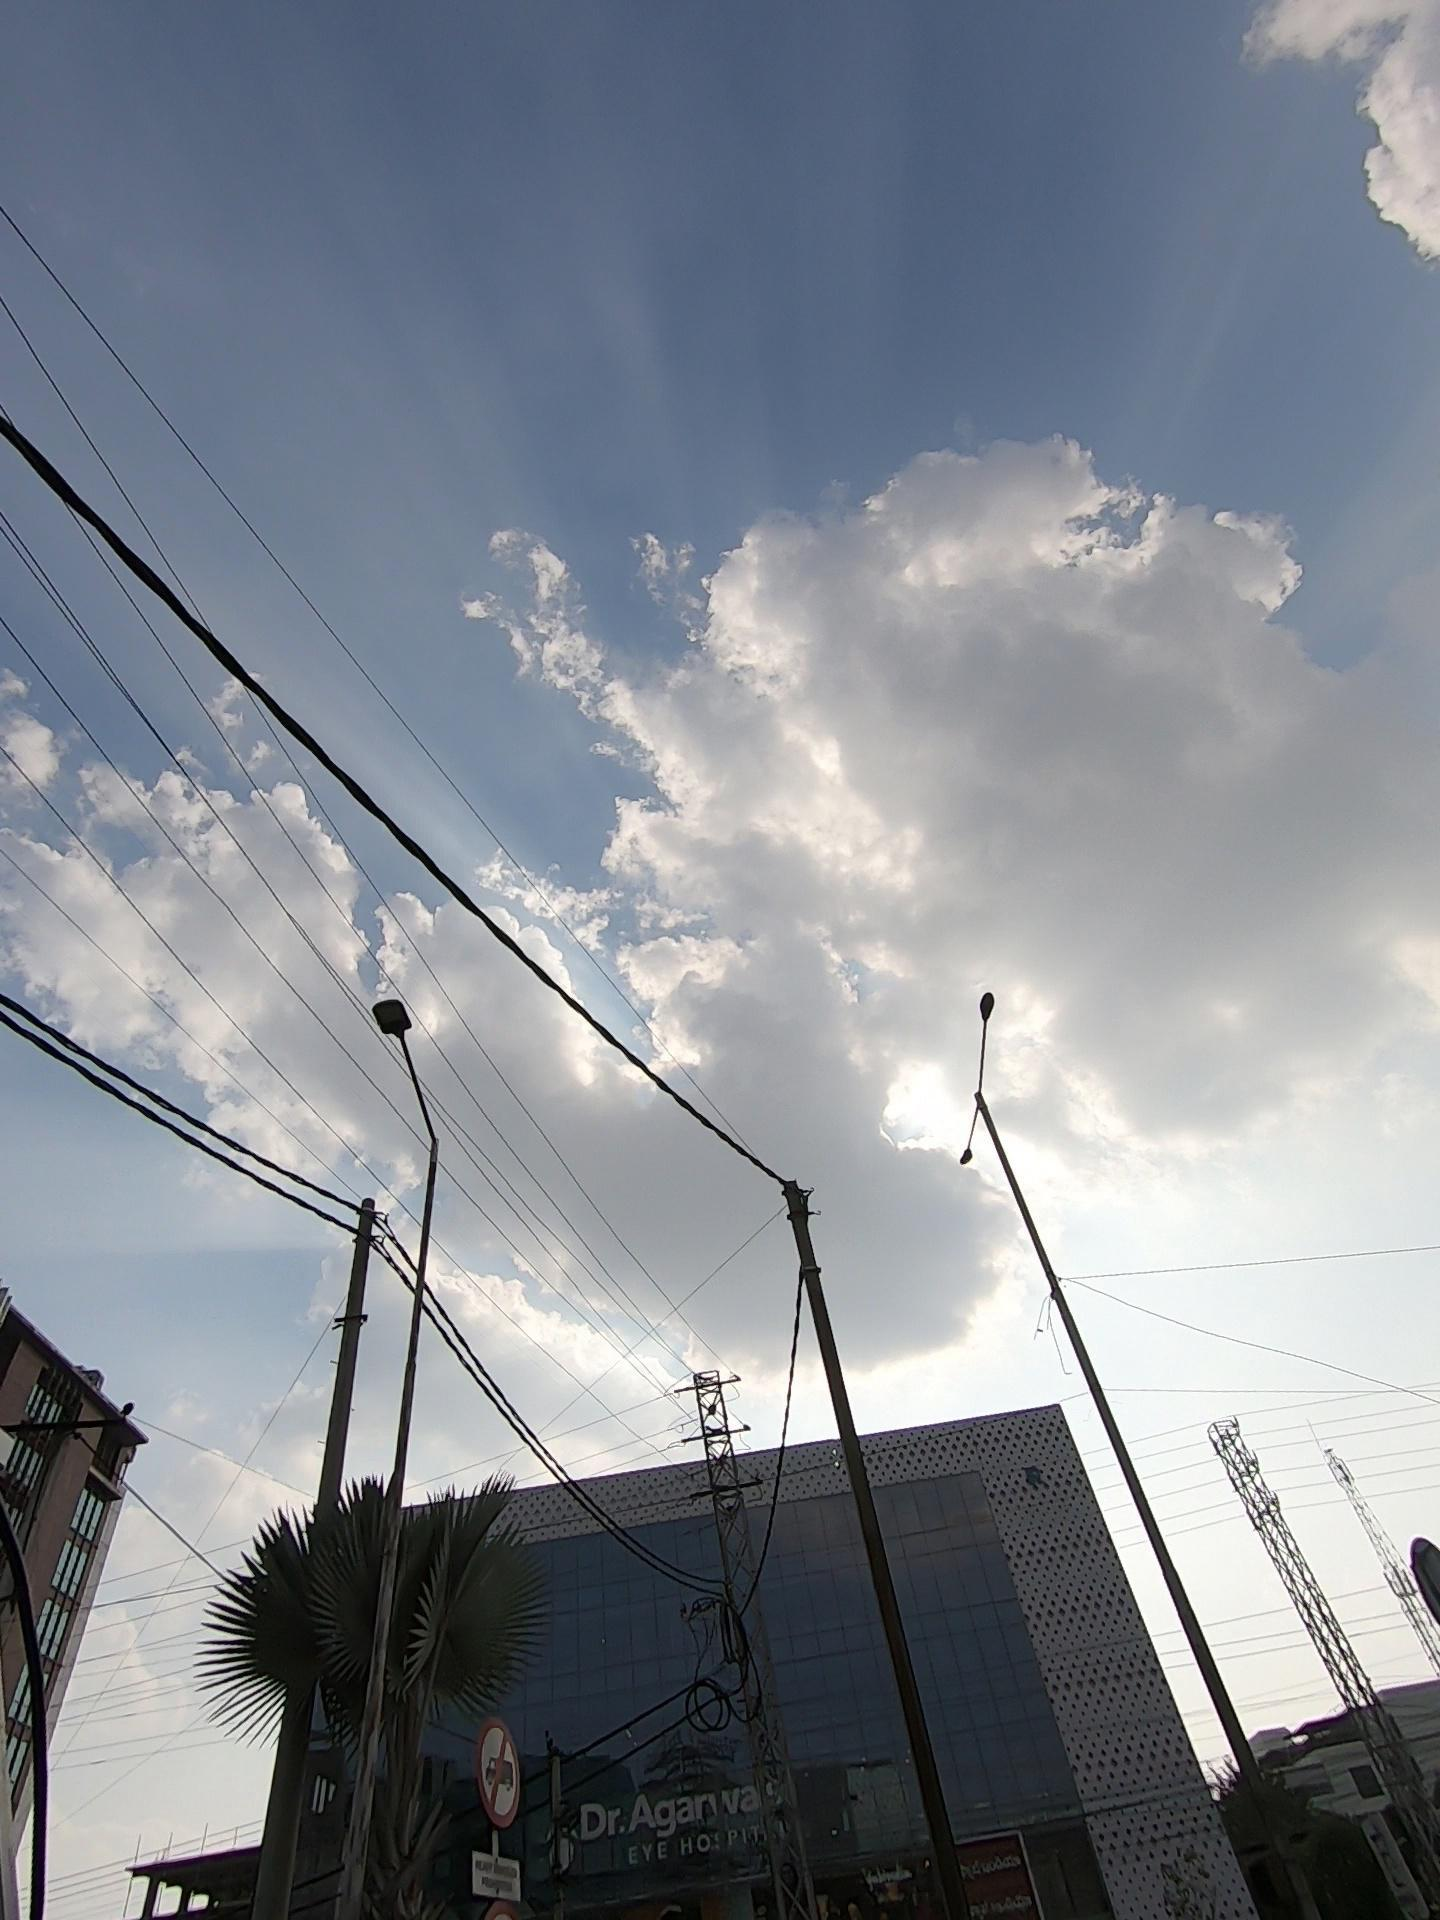off: (880, 951, 1080, 1276), (355, 977, 487, 1284)
